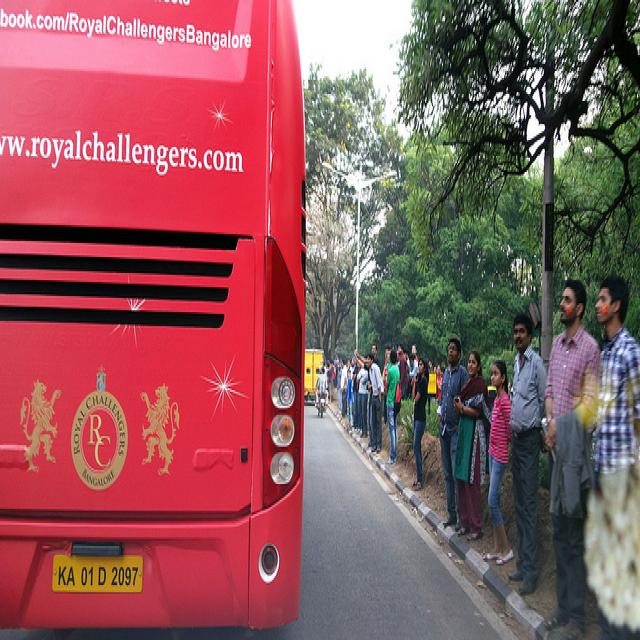motor: (317, 392, 326, 418)
